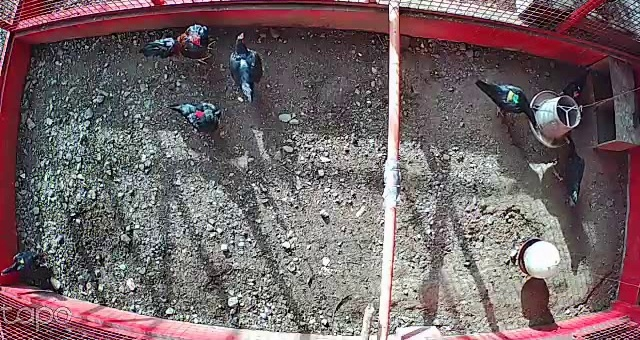Chicken: (547, 134, 592, 209), (475, 77, 539, 129), (226, 30, 267, 102), (167, 99, 228, 138), (0, 247, 55, 279), (554, 69, 593, 99)
Rooster: (140, 21, 226, 70)
Saddle_Color_Red: (194, 108, 205, 119)
Saddle_Color_YellowGreen: (505, 89, 520, 107)
